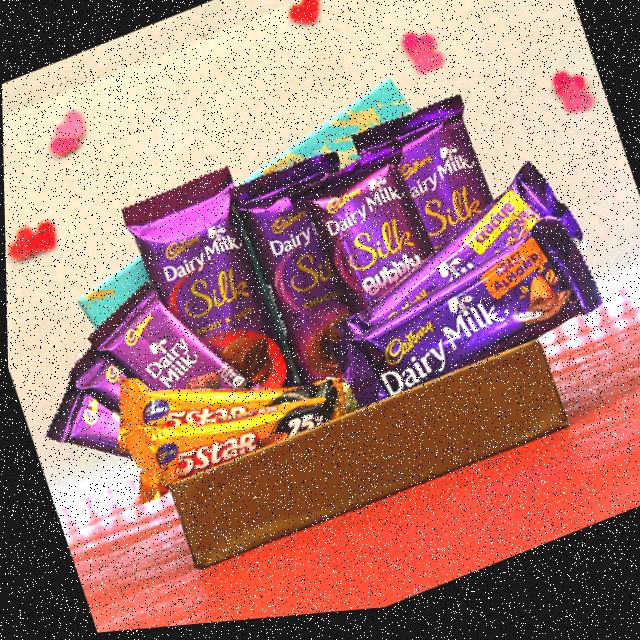cadbury: (345, 83, 539, 373), (123, 163, 306, 446), (341, 230, 605, 409), (237, 152, 387, 423), (309, 151, 452, 394)
